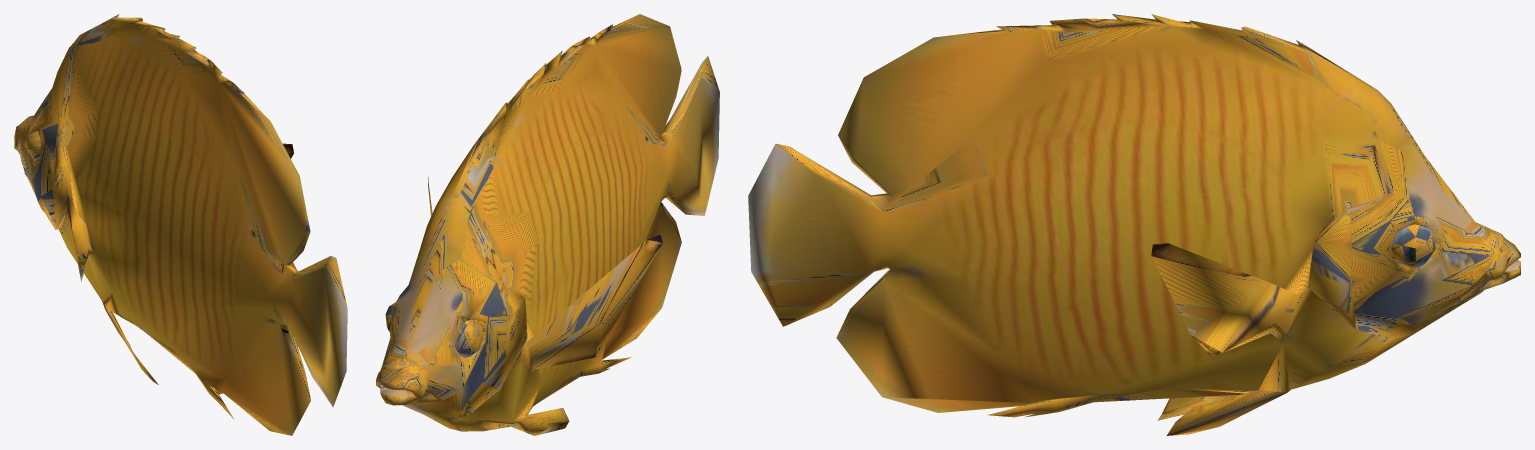
Rendered from koraalvlinder-ver.glb.
3 views of the same model, side by side, from view 1: azimuth 30°, elevation 25°; view 2: azimuth 150°, elevation 25°; view 3: azimuth 270°, elevation 25° (orthographic). The views are drawn at different scales.
Visible parts, largest first — view 1: tripo_node_d244f3be-5a0d-470b-84b1-80a77c8f645b; view 2: tripo_node_d244f3be-5a0d-470b-84b1-80a77c8f645b; view 3: tripo_node_d244f3be-5a0d-470b-84b1-80a77c8f645b.
Boxes of the visible parts, box(x1,y1,x2,y2) form: tripo_node_d244f3be-5a0d-470b-84b1-80a77c8f645b: box(14, 14, 347, 435); tripo_node_d244f3be-5a0d-470b-84b1-80a77c8f645b: box(376, 14, 719, 435); tripo_node_d244f3be-5a0d-470b-84b1-80a77c8f645b: box(748, 14, 1520, 435).
Size of the model in its own units: 0.1357 by 0.1987 by 0.3331.
1 material, 1 textured.
